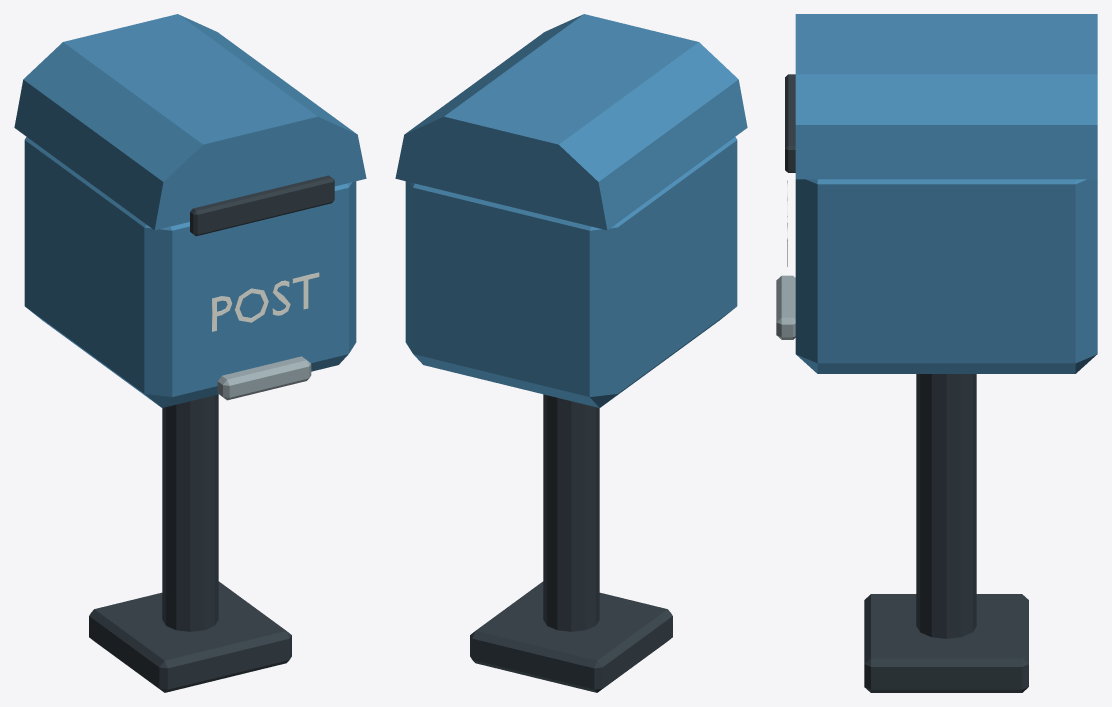
The model's file is Mailbox_Public.glb.
The picture shows the model from 3 angles, left to right: view 1: azimuth 30°, elevation 25°; view 2: azimuth 150°, elevation 25°; view 3: azimuth 270°, elevation 25°; orthographic projection. The views are drawn at different scales.
Visible parts, largest first — view 1: Mailbox_Public; view 2: Mailbox_Public; view 3: Mailbox_Public.
Part boxes in pixels (left/top/right/bottom): Mailbox_Public: left=14, top=14, right=366, bottom=692; Mailbox_Public: left=395, top=14, right=747, bottom=692; Mailbox_Public: left=776, top=14, right=1097, bottom=692.
Bounding box in the file's own units: 0.48 × 1.24 × 0.585.
